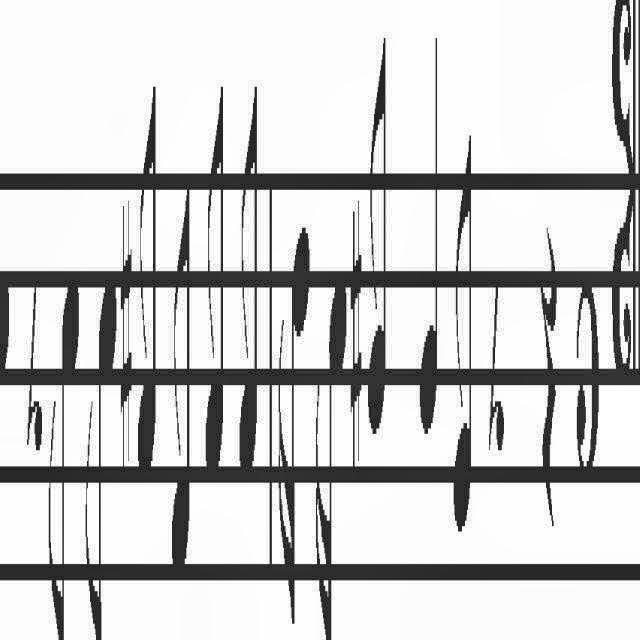Diez: (347, 166, 365, 514), (120, 168, 136, 522)
Eighth-note: (446, 87, 480, 566), (45, 228, 83, 640), (236, 63, 268, 523), (366, 12, 398, 468), (82, 282, 122, 640), (169, 148, 199, 616), (134, 32, 160, 524), (203, 56, 231, 500), (0, 239, 12, 640)
Eighth-rest: (486, 261, 512, 507), (22, 263, 42, 481)
Quarter-note: (418, 0, 442, 472)
Quarter-rest: (536, 182, 564, 538)
Sixteenth-note: (276, 181, 312, 631), (311, 271, 351, 640)
